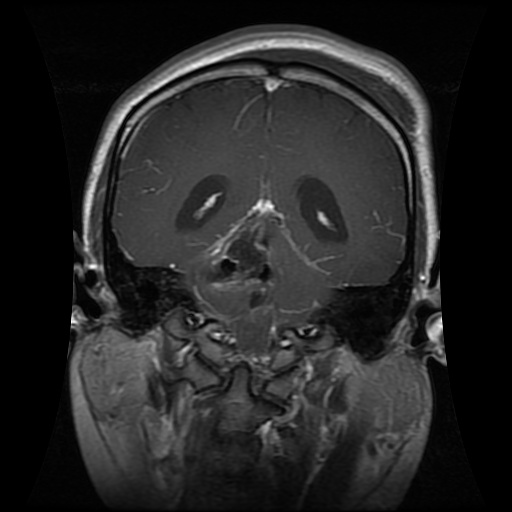glioma: (197, 197, 288, 307)
